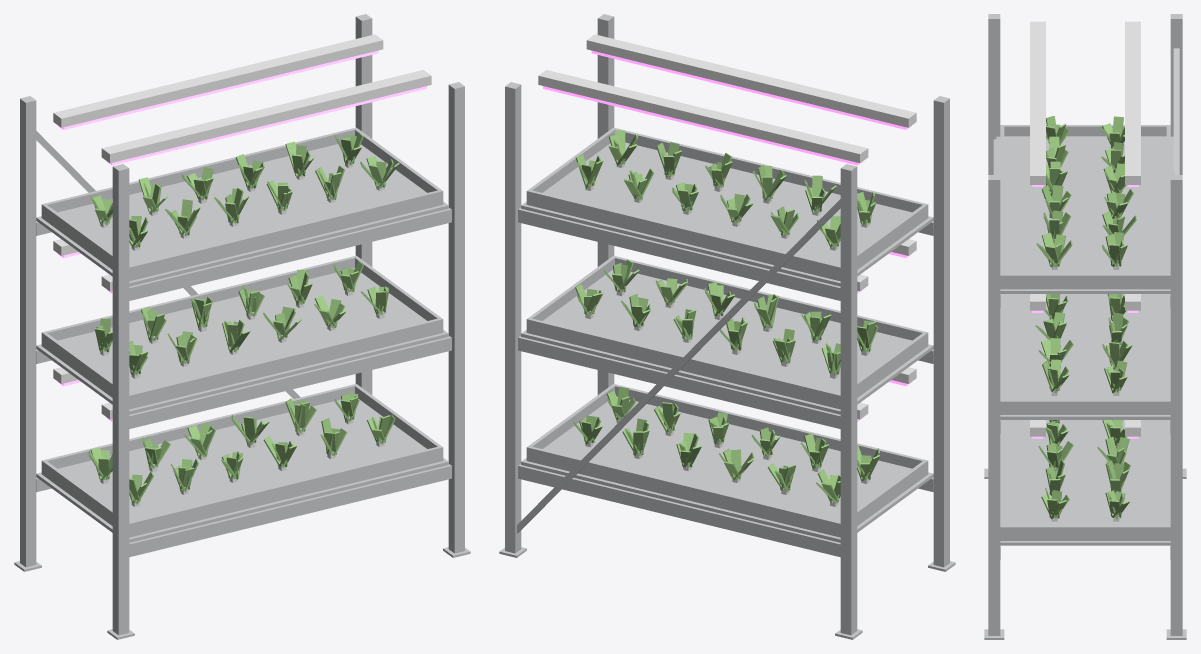
File: vertical-farm-and-hydroponics-tower-vertical-farm-and--c15e6373__38338.glb
The picture shows the model from 3 angles, left to right: view 1: azimuth 30°, elevation 25°; view 2: azimuth 150°, elevation 25°; view 3: azimuth 270°, elevation 25°; orthographic projection.
Parts seen in each view (by area): view 1: vertical-farm-and-hydroponics-tower-grow-rack-bay-pak-choi, tray-mid/steel, tray-mid/leaf; view 2: vertical-farm-and-hydroponics-tower-grow-rack-bay-pak-choi, tray-mid/steel, tray-mid/leaf; view 3: vertical-farm-and-hydroponics-tower-grow-rack-bay-pak-choi, tray-mid/steel, tray-mid/leaf.
Boxes of the visible parts, x1=… form: vertical-farm-and-hydroponics-tower-grow-rack-bay-pak-choi: x1=14, y1=14, x2=470, y2=639; tray-mid/steel: x1=41, y1=255, x2=443, y2=409; tray-mid/leaf: x1=95, y1=261, x2=388, y2=375; vertical-farm-and-hydroponics-tower-grow-rack-bay-pak-choi: x1=499, y1=14, x2=955, y2=639; tray-mid/steel: x1=526, y1=255, x2=928, y2=409; tray-mid/leaf: x1=575, y1=259, x2=878, y2=375; vertical-farm-and-hydroponics-tower-grow-rack-bay-pak-choi: x1=984, y1=14, x2=1186, y2=639; tray-mid/steel: x1=1000, y1=294, x2=1170, y2=414; tray-mid/leaf: x1=1035, y1=294, x2=1132, y2=393.
Bounding box in the file's own units: 2.02 × 2.55 × 1.02.
